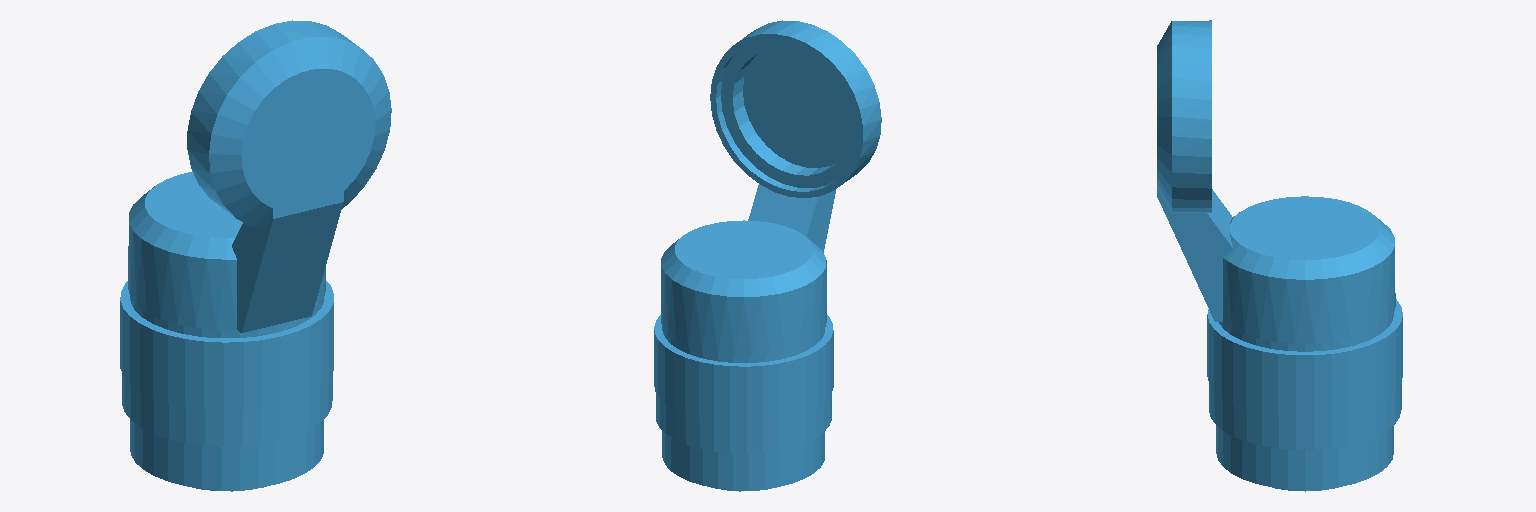
The robot description file, URDF, robot "arm":
<?xml version="1.0"?>
<robot name="arm"
	xmlns:sensor="http://playerstage.sourceforge.net/gazebo/xmlschema/#sensor"
	xmlns:controller="http://playerstage.sourceforge.net/gazebo/xmlschema/#controller"
	xmlns:interface="http://playerstage.sourceforge.net/gazebo/xmlschema/#interface">

	<!-- ################################################################################# -->
	<!-- add links-->
	<link name="link_arm0">
		<inertial>
			<origin xyz="0 0 0" rpy="0 0 0" />
			<mass value="1"/>
			<inertia ixx="0.01"  ixy="0"  ixz="0" iyy="0.01" iyz="0" izz="0.01" />
		</inertial>
		<visual>
			<origin xyz="0 0 0" rpy="1.5707963 0 0" />
			<geometry>
				<mesh filename="package://cob3_defs/common/files/meshes/arm0.stl" />
			</geometry>
		</visual>
		<collision>
			<origin xyz="0 0 0" rpy="1.5707963 0 0" />
			<geometry>
				<mesh filename="package://cob3_defs/common/files/meshes/arm0.stl" />
			</geometry>
		</collision>
	</link>
	
	<link name="link_arm1">
		<inertial>
			<origin xyz="0 0 0" rpy="0 0 0"/>
			<mass value="2"/>
			<inertia ixx="0.01"  ixy="0"  ixz="0" iyy="0.01" iyz="0" izz="0.01" />
		</inertial>
		<visual>
			<origin xyz="0 0 0" rpy="0 0 0" />
			<geometry>
				<mesh filename="package://cob3_defs/common/files/meshes/arm1.stl" />
			</geometry>
		</visual>
		<collision>
			<origin xyz="0 0 0" rpy="0 0 0" />
			<geometry>
				<mesh filename="package://cob3_defs/common/files/meshes/arm1.stl"/>
			</geometry>
		</collision>
	</link>
	
	<link name="link_arm2">
		<inertial>
			<origin xyz="0 0 0" rpy="0 0 0"/>
			<mass value="0.2"/>
			<inertia ixx="0.01"  ixy="0"  ixz="0" iyy="0.01" iyz="0" izz="0.01" />
		</inertial>
		<visual>
			<origin xyz="0 0 0" rpy="0 0 0" />
			<geometry>
				<mesh filename="package://cob3_defs/common/files/meshes/arm2.stl" />
			</geometry>
		</visual>
		<collision>
			<origin xyz="0 0 0" rpy="0 0 0" />
			<geometry>
				<mesh filename="package://cob3_defs/common/files/meshes/arm2.stl"/>
			</geometry>
		</collision>
	</link>
	
	<link name="link_arm3">
		<inertial>
			<origin xyz="0 0 0" rpy="0 0 0"/>
			<mass value="0.2"/>
			<inertia ixx="0.01"  ixy="0"  ixz="0" iyy="0.01" iyz="0" izz="0.01" />
		</inertial>
		<visual>
			<origin xyz="0 0 0" rpy="0 0 0" />
			<geometry>
				<mesh filename="package://cob3_defs/common/files/meshes/arm3.stl" />
			</geometry>
		</visual>
		<collision>
			<origin xyz="0 0 0" rpy="0 0 0" />
			<geometry>
				<mesh filename="package://cob3_defs/common/files/meshes/arm3.stl"/>
			</geometry>
		</collision>
	</link>
	
	<link name="link_arm4">
		<inertial>
			<origin xyz="0 0 0" rpy="0 0 0"/>
			<mass value="0.2"/>
			<inertia ixx="0.01"  ixy="0"  ixz="0" iyy="0.01" iyz="0" izz="0.01" />
		</inertial>
		<visual>
			<origin xyz="0 0 0" rpy="0 0 0" />
			<geometry>
				<mesh filename="package://cob3_defs/common/files/meshes/arm4.stl" />
			</geometry>
		</visual>
		<collision>
			<origin xyz="0 0 0" rpy="0 0 0" />
			<geometry>
				<mesh filename="package://cob3_defs/common/files/meshes/arm4.stl"/>
			</geometry>
		</collision>
	</link>
	
	<link name="link_arm5">
		<inertial>
			<origin xyz="0 0 0" rpy="0 0 0"/>
			<mass value="0.2"/>
			<inertia ixx="0.01"  ixy="0"  ixz="0" iyy="0.01" iyz="0" izz="0.01" />
		</inertial>
		<visual>
			<origin xyz="0 0 0" rpy="0 0 0" />
			<geometry>
				<mesh filename="package://cob3_defs/common/files/meshes/arm5.stl" />
			</geometry>
		</visual>
		<collision>
			<origin xyz="0 0 0" rpy="0 0 0" />
			<geometry>
				<mesh filename="package://cob3_defs/common/files/meshes/arm5.stl"/>
			</geometry>
		</collision>
	</link>
	
	<link name="link_arm6">
		<inertial>
			<origin xyz="0 0 0" rpy="0 0 0"/>
			<mass value="0.2"/>
			<inertia ixx="0.01"  ixy="0"  ixz="0" iyy="0.01" iyz="0" izz="0.01" />
		</inertial>
		<visual>
			<origin xyz="0 0 0" rpy="0 0 0" />
			<geometry>
				<mesh filename="package://cob3_defs/common/files/meshes/arm6.stl" />
			</geometry>
		</visual>
		<collision>
			<origin xyz="0 0 0" rpy="0 0 0" />
			<geometry>
				<mesh filename="package://cob3_defs/common/files/meshes/arm6.stl"/>
			</geometry>
		</collision>
	</link>
	
	<link name="link_arm7">
		<inertial>
			<origin xyz="0 0 0" rpy="0 0 0"/>
			<mass value="0.2"/>
			<inertia ixx="0.01"  ixy="0"  ixz="0" iyy="0.01" iyz="0" izz="0.01" />
		</inertial>
		<visual>
			<origin xyz="0 0 0" rpy="0 0 0" />
			<geometry>
				<mesh filename="package://cob3_defs/common/files/meshes/arm7.stl" />
			</geometry>
		</visual>
		<collision>
			<origin xyz="0 0 0" rpy="0 0 0" />
			<geometry>
				<mesh filename="package://cob3_defs/common/files/meshes/arm7.stl"/>
			</geometry>
		</collision>
	</link>

	<gazebo reference="link_arm0">
		<material>Gazebo/Grey</material>
		<turnGravityOff>false</turnGravityOff>
	</gazebo>

	<gazebo reference="link_arm1">
		<material>Gazebo/Grey</material>
		<turnGravityOff>false</turnGravityOff>
	</gazebo>
	
	<gazebo reference="link_arm2">
		<material>Gazebo/Red</material>
		<turnGravityOff>false</turnGravityOff>
	</gazebo>
	
	<gazebo reference="link_arm3">
		<material>Gazebo/Grey</material>
		<turnGravityOff>false</turnGravityOff>
	</gazebo>
	
	<gazebo reference="link_arm4">
		<material>Gazebo/Red</material>
		<turnGravityOff>false</turnGravityOff>
	</gazebo>

	<gazebo reference="link_arm5">
		<material>Gazebo/Grey</material>
		<turnGravityOff>false</turnGravityOff>
	</gazebo>

	<gazebo reference="link_arm6">
		<material>Gazebo/Red</material>
		<turnGravityOff>false</turnGravityOff>
	</gazebo>

	<gazebo reference="link_arm7">
		<material>Gazebo/Grey</material>
		<turnGravityOff>false</turnGravityOff>
	</gazebo>

	<!-- ################################################################################# -->
	<!-- add joints -->
	<joint name="joint_arm0_arm1" type="revolute">
		<origin xyz="0 0 0.0569" rpy="0 0 0"/>
		<parent link="link_arm0"/>
		<child link="link_arm1"/>
		<axis xyz="0 0 1"/>
	    <calibration reference_position="0.0"/>
		<limit effort="320" velocity="2.0" lower="-6.2831853" upper="6.2831853"/> <!-- rads. effort is N-m applied force. vel is rad/s. -->
		<safety_controller k_position="10" k_velocity="10" soft_lower_limit="-6.2" soft_upper_limit="6.2"/>
		<dynamics damping="10.0" friction="10.0"/>
	</joint>
	
	<joint name="joint_arm1_arm2" type="revolute">
		<origin xyz="0 0 0.1931" rpy="0 0 0"/>
		<parent link="link_arm1"/>
		<child link="link_arm2"/>
		<axis xyz="0 1 0"/>
	    <calibration reference_position="0.0"/>
		<limit effort="320" velocity="2.0" lower="-2.0943951" upper="2.0943951"/> <!-- rads. effort is N-m applied force. vel is rad/s. -->
		<safety_controller k_position="10" k_velocity="10" soft_lower_limit="-2.0" soft_upper_limit="2.0"/>
		<dynamics damping="10.0" friction="10.0"/>
	</joint>

	<joint name="joint_arm2_arm3" type="revolute">
		<origin xyz="0 0 0.110" rpy="0 0 0"/>
		<parent link="link_arm2"/>
		<child link="link_arm3"/>
		<axis xyz="0 0 1"/>
	    <calibration reference_position="0.0"/>
		<limit effort="320" velocity="2.0" lower="-6.2831853" upper="6.2831853"/> <!-- rads. effort is N-m applied force. vel is rad/s. -->
		<safety_controller k_position="10" k_velocity="10" soft_lower_limit="-6.2" soft_upper_limit="6.2"/>
		<dynamics damping="10.0" friction="10.0"/>
	</joint>	

	<joint name="joint_arm3_arm4" type="revolute">
		<origin xyz="0 0 0.298" rpy="0 0 0" />
		<parent link="link_arm3"/>
		<child link="link_arm4"/>
		<axis xyz="0 1 0" />
	    <calibration reference_position="0.0"/>
		<limit effort="320" velocity="2.0" upper="2.0943951" lower="-2.0943951" /> <!-- rads. effort is N-m applied force. vel is rad/s. -->
		<safety_controller k_position="10" k_velocity="10" soft_lower_limit="-2.0" soft_upper_limit="2.0"/>
		<dynamics damping="10.0" friction="10.0"/>
	</joint>

	<joint name="joint_arm4_arm5" type="revolute">
		<origin xyz="0 0 0.100" rpy="0 0 0" />
		<parent link="link_arm4"/>
		<child link="link_arm5"/>
		<axis xyz="0 0 1" />
	    <calibration reference_position="0.0"/>
		<limit effort="320" velocity="2.0" upper="6.2831853" lower="-6.2831853" /> <!-- rads. effort is N-m applied force. vel is rad/s. -->
		<safety_controller k_position="10" k_velocity="10" soft_lower_limit="-6.2" soft_upper_limit="6.2"/>
		<dynamics damping="10.0" friction="10.0"/>
	</joint>
	
	<joint name="joint_arm5_arm6" type="revolute">
		<origin xyz="0 0 0.2165" rpy="0 0 0" />
		<parent link="link_arm5"/>
		<child link="link_arm6"/>
		<axis xyz="0 1 0" />
	    <calibration reference_position="0.0"/>
		<limit effort="320" velocity="2.0" upper="2.0943951" lower="-2.0943951" /> <!-- rads. effort is N-m applied force. vel is rad/s. -->
		<safety_controller k_position="10" k_velocity="10" soft_lower_limit="-2.0" soft_upper_limit="2.0"/>
		<dynamics damping="10.0" friction="10.0"/>
	</joint>
	
	<joint name="joint_arm6_arm7" type="revolute">
		<origin xyz="0 0 0.080" rpy="0 0 0" />
		<parent link="link_arm6"/>
		<child link="link_arm7"/>
		<axis xyz="0 0 1" />
	    <calibration reference_position="0.0"/>
		<limit effort="320" velocity="2.0" upper="6.2831853" lower="-6.2831853" /> <!-- rads. effort is N-m applied force. vel is rad/s. -->
		<safety_controller k_position="10" k_velocity="10" soft_lower_limit="-6.2" soft_upper_limit="6.2"/>
		<dynamics damping="10.0" friction="10.0"/>
	</joint>

	<!-- ################################################################################# -->
	<!-- add transmissions -->
	<transmission name="trans_arm0_arm1" type="SimpleTransmission">
		<actuator name="motor_arm0_arm1"/>
		<joint name="joint_arm0_arm1"/>
		<mechanicalReduction>1</mechanicalReduction>
	</transmission>
	
	<transmission name="trans_arm1_arm2" type="SimpleTransmission">
		<actuator name="motor_arm1_arm2"/>
		<joint name="joint_arm1_arm2"/>
		<mechanicalReduction>1</mechanicalReduction>
	</transmission>
	
	<transmission name="trans_arm2_arm3" type="SimpleTransmission">
		<actuator name="motor_arm2_arm3"/>
		<joint name="joint_arm2_arm3"/>
		<mechanicalReduction>1</mechanicalReduction>
	</transmission>
	
	<transmission name="trans_arm3_arm4" type="SimpleTransmission">
		<actuator name="motor_arm3_arm4"/>
		<joint name="joint_arm3_arm4"/>
		<mechanicalReduction>1</mechanicalReduction>
	</transmission>
	
	<transmission name="trans_arm4_arm5" type="SimpleTransmission">
		<actuator name="motor_arm4_arm5"/>
		<joint name="joint_arm4_arm5"/>
		<mechanicalReduction>1</mechanicalReduction>
	</transmission>
	
	<transmission name="trans_arm5_arm6" type="SimpleTransmission">
		<actuator name="motor_arm5_arm6"/>
		<joint name="joint_arm5_arm6"/>
		<mechanicalReduction>1</mechanicalReduction>
	</transmission>
	
	<transmission name="trans_arm6_arm7" type="SimpleTransmission">
		<actuator name="motor_arm6_arm7"/>
		<joint name="joint_arm6_arm7"/>
		<mechanicalReduction>1</mechanicalReduction>
	</transmission>

</robot>

--- What the picture shows (computed from the rendered views, not written in the file) ---
Views: 3 orthographic renders of the robot side by side, from view 1: azimuth 30°, elevation 25°; view 2: azimuth 150°, elevation 25°; view 3: azimuth 270°, elevation 25°.
Robot: arm — 8 links, 7 joints (7 revolute); root link link_arm0; default pose: every joint at zero.
Links seen in each view (by area): view 1: link_arm1; view 2: link_arm1; view 3: link_arm1.
Link boxes in pixels (<box>): link_arm1: <box>120,20,391,491</box>; link_arm1: <box>654,20,881,491</box>; link_arm1: <box>1157,20,1402,491</box>.
Bounding box of the posed robot: 0.1314 × 0.166 × 0.3229 m (x, y, z).
1 mesh visuals loaded from 8 distinct referenced files (1 binary STL); not drawn: 7 (reference not matched to a file when rendering).